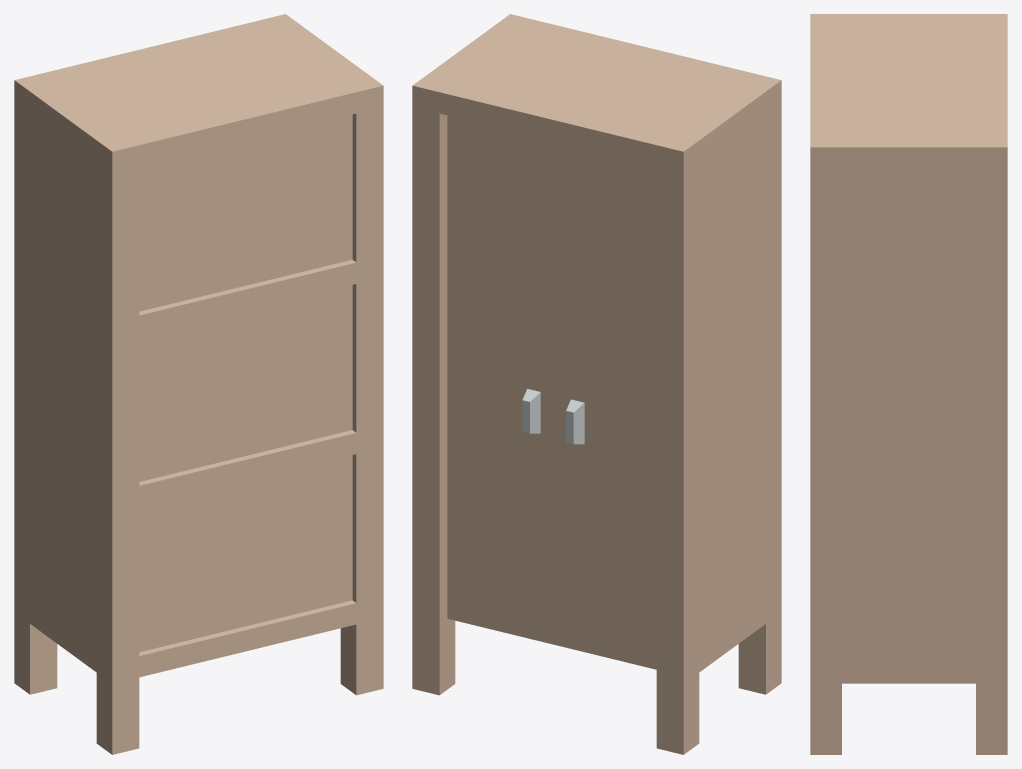
Rendered from bookcase_doors.glb.
3 views of the same model, side by side, from view 1: azimuth 30°, elevation 25°; view 2: azimuth 150°, elevation 25°; view 3: azimuth 270°, elevation 25° (orthographic).
Visible parts, largest first — view 1: bookcaseClosedDoors(Clone); view 2: bookcaseClosedDoors(Clone), doorLeft, doorRight; view 3: bookcaseClosedDoors(Clone).
Part boxes in pixels (x1,y1,x2,y2): bookcaseClosedDoors(Clone): (14, 14, 383, 754); bookcaseClosedDoors(Clone): (412, 14, 781, 754); doorLeft: (447, 115, 555, 634); doorRight: (556, 142, 656, 658); bookcaseClosedDoors(Clone): (810, 14, 1007, 754).
Size of the model in its own units: 0.84 by 1.78 by 0.525.
